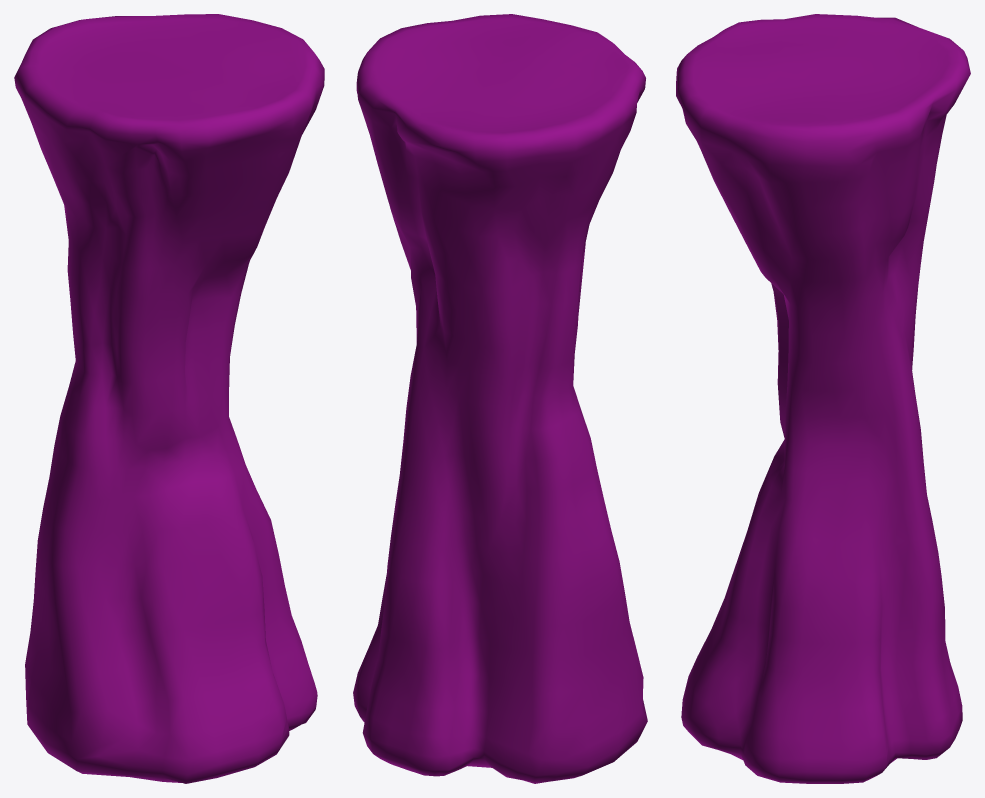
The model's file is platformBig00_mdl.fbx.
3 views of the same model, side by side, from view 1: azimuth 30°, elevation 25°; view 2: azimuth 150°, elevation 25°; view 3: azimuth 270°, elevation 25° (orthographic).
Parts seen in each view (by area): view 1: Group56346; view 2: Group56346; view 3: Group56346.
Part boxes in pixels (left/top/right/bottom): Group56346: left=14, top=14, right=324, bottom=783; Group56346: left=353, top=14, right=647, bottom=783; Group56346: left=676, top=14, right=970, bottom=783.
Bounding box in the file's own units: 684 × 1676 × 674.
